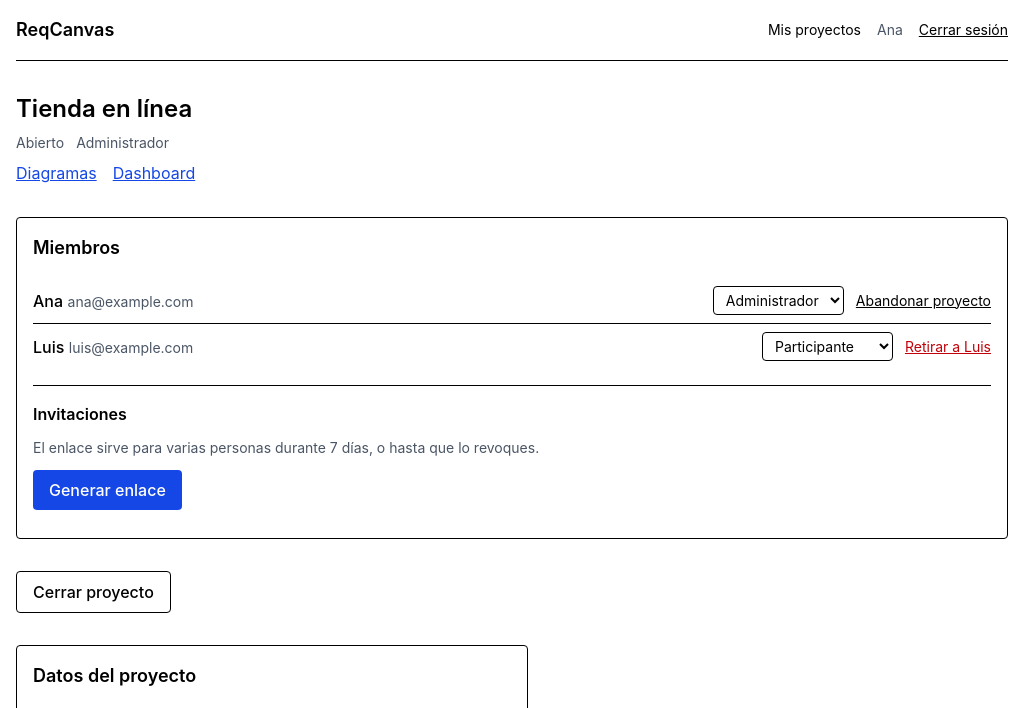
Test: MembersPanel (Administrador) › muestra el error si el cambio dejaría el proyecto sin Administradores
The width and height of the screenshot is (1024, 708).
Select "Participante" in the dropdown named "Rol de Ana" at [778, 300], box [713,286,844,315]
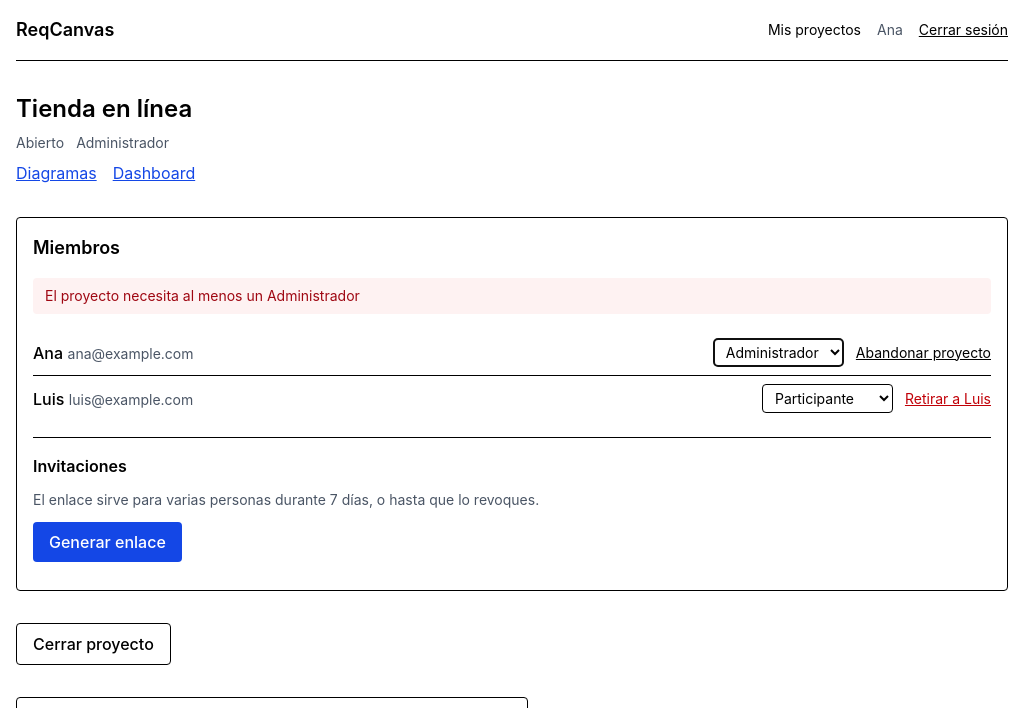
Now the message reads "El proyecto necesita al menos un Administrador", box [45,287,360,304]
